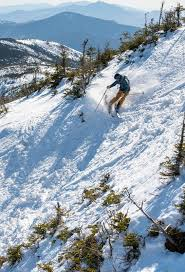skis: (106, 102, 123, 120)
